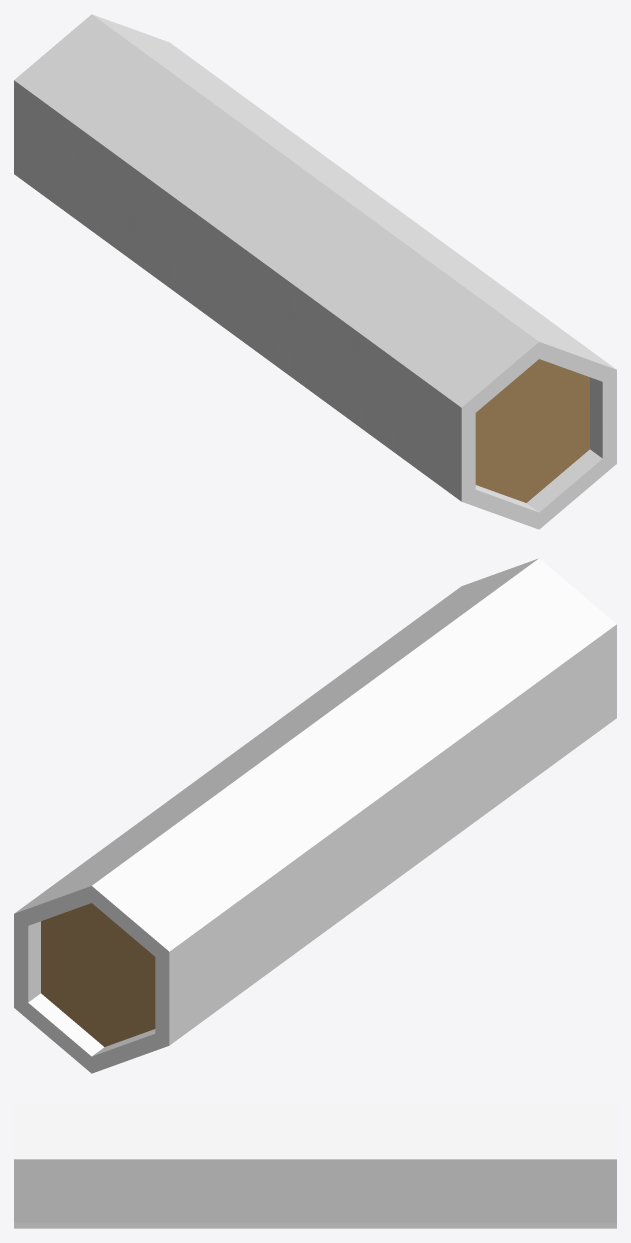
Rendered from QuarryLog.fbx.
3 renders of one model, top to bottom at view 1: azimuth 30°, elevation 25°; view 2: azimuth 150°, elevation 25°; view 3: azimuth 270°, elevation 25°, orthographic. The views are drawn at different scales.
Parts seen in each view (by area): view 1: QuarryLog; view 2: QuarryLog; view 3: QuarryLog.
Part boxes in pixels (bbox=[...]): QuarryLog: bbox=[14, 14, 616, 529]; QuarryLog: bbox=[14, 558, 616, 1073]; QuarryLog: bbox=[14, 1102, 616, 1228].
Bounding box in the file's own units: 1.21 × 1.4 × 6.05.
